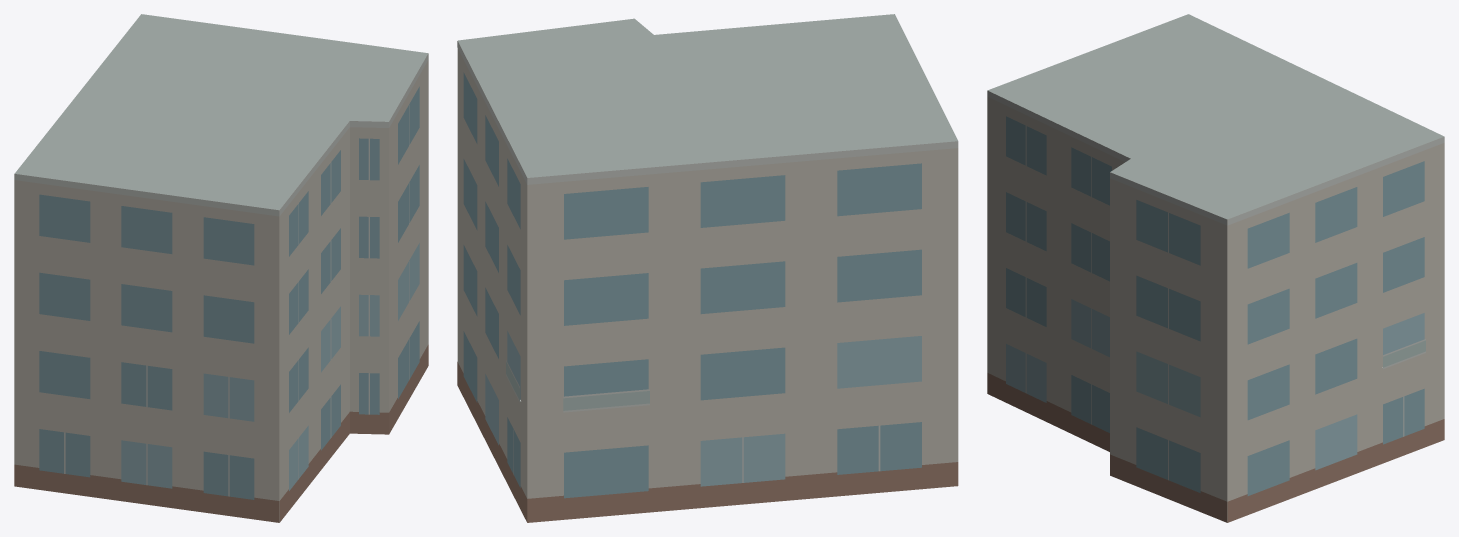
Rendered from survey-upis-32624699.glb.
3 views of the same model, side by side, from view 1: azimuth 30°, elevation 25°; view 2: azimuth 150°, elevation 25°; view 3: azimuth 270°, elevation 25° (orthographic). The views are drawn at different scales.
Parts seen in each view (by area): view 1: survey-upis-32624699.tmp; view 2: survey-upis-32624699.tmp; view 3: survey-upis-32624699.tmp.
Boxes of the visible parts, left/top/right/bottom form: survey-upis-32624699.tmp: left=14, top=14, right=428, bottom=522; survey-upis-32624699.tmp: left=457, top=14, right=958, bottom=522; survey-upis-32624699.tmp: left=987, top=14, right=1444, bottom=522.
Size of the model in its own units: 17.74 by 12.2 by 16.68.
